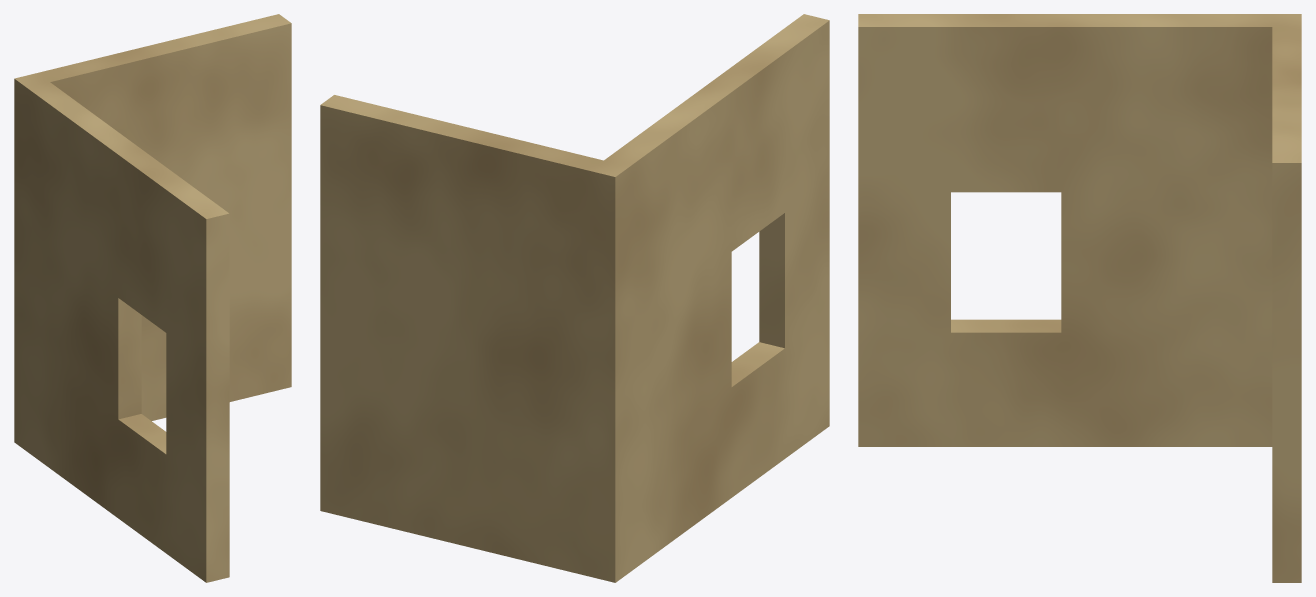
File: Wall.fbx
3 renders of one model, left to right at view 1: azimuth 30°, elevation 25°; view 2: azimuth 150°, elevation 25°; view 3: azimuth 270°, elevation 25°, orthographic. The views are drawn at different scales.
Visible parts, largest first — view 1: Walls; view 2: Walls; view 3: Walls.
Boxes of the visible parts, x1=… form: Walls: x1=14, y1=14, x2=291, y2=582; Walls: x1=320, y1=14, x2=829, y2=582; Walls: x1=858, y1=14, x2=1301, y2=582.
Bounding box in the file's own units: 130 × 171 × 164.
